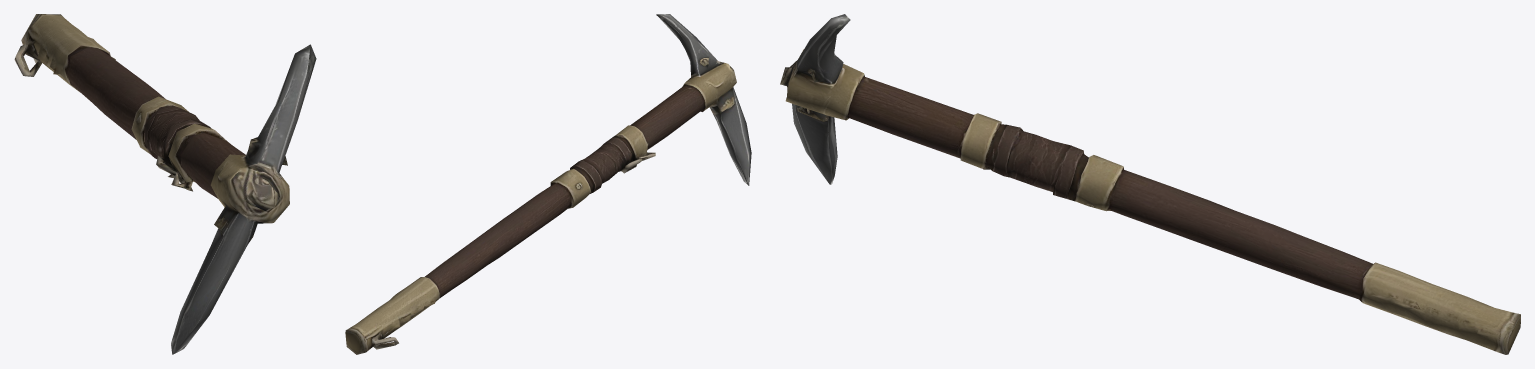
Rendered from cavalry_spd_melee.glb.
3 renders of one model, left to right at view 1: azimuth 30°, elevation 25°; view 2: azimuth 150°, elevation 25°; view 3: azimuth 270°, elevation 25°, orthographic. The views are drawn at different scales.
Parts seen in each view (by area): view 1: tripo_node_7c81ad6a-57d0-43ce-98aa-556ae80750c9; view 2: tripo_node_7c81ad6a-57d0-43ce-98aa-556ae80750c9; view 3: tripo_node_7c81ad6a-57d0-43ce-98aa-556ae80750c9.
Part boxes in pixels (x1,y1,x2,y2): tripo_node_7c81ad6a-57d0-43ce-98aa-556ae80750c9: (14, 14, 316, 354); tripo_node_7c81ad6a-57d0-43ce-98aa-556ae80750c9: (345, 14, 751, 354); tripo_node_7c81ad6a-57d0-43ce-98aa-556ae80750c9: (780, 14, 1520, 354).
Size of the model in its own units: 0.1746 by 0.1865 by 0.444.
1 material, 1 textured.
